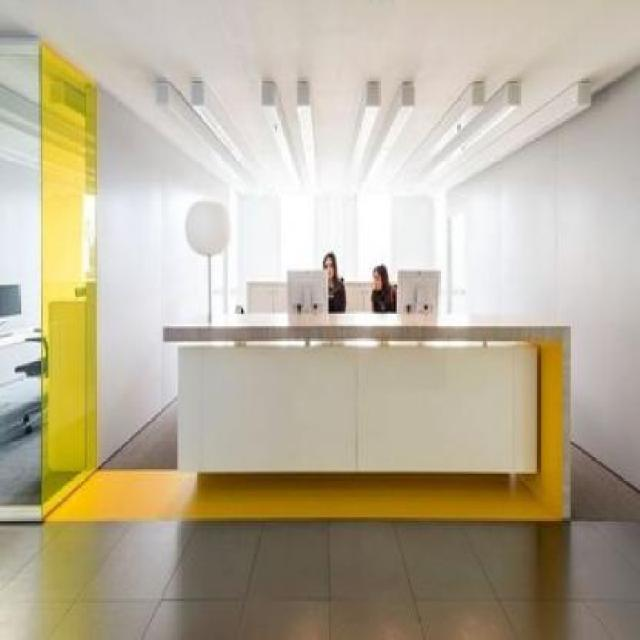frontdesk: (151, 294, 581, 523)
